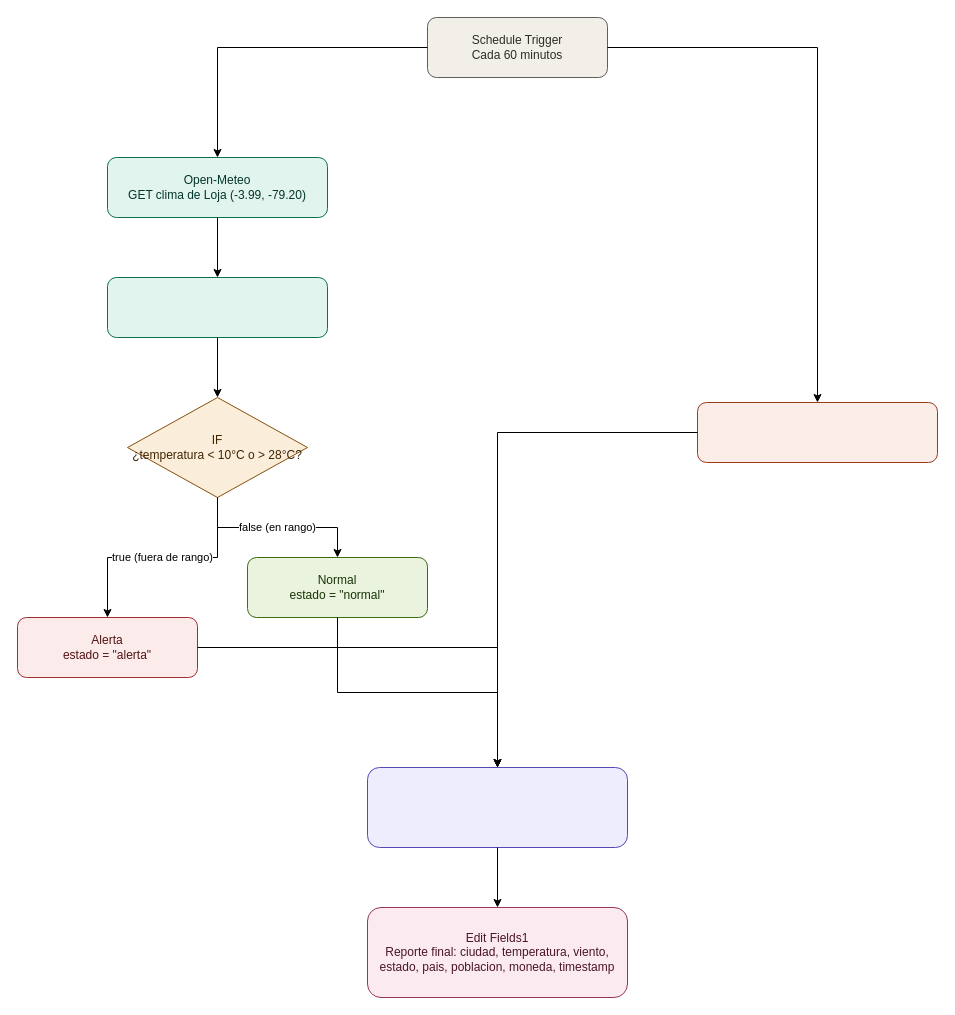
This 955x1015 diagram has some shape labels left out. The shapes that lost their labels are listed below. From the top down, each one's centre as x and y in pixels, then its label:
At point 217,307: "Edit Fields Extrae temperatura y viento".
At point 817,432: "HTTP Request POST countriesnow - país Ecuador".
At point 497,807: "Reporte Final (Merge) Combina rama clima + rama país Combine by Position".
